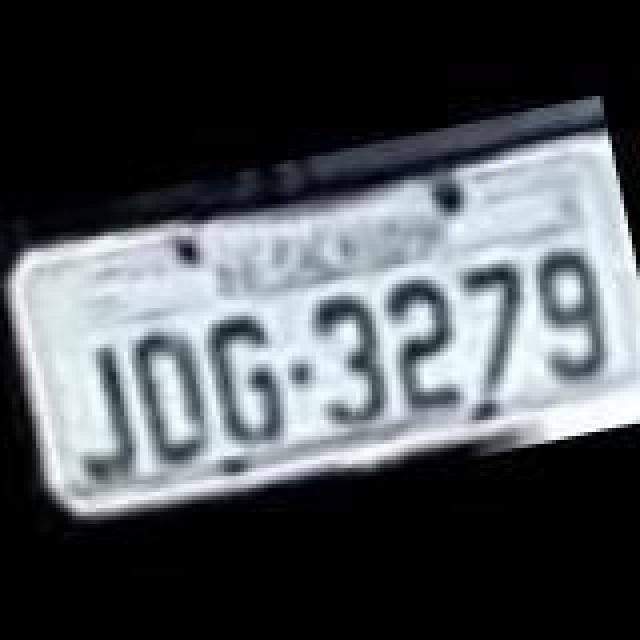2: (374, 268, 474, 420)
3: (298, 280, 398, 432)
7: (452, 254, 548, 402)
9: (522, 242, 614, 382)
G: (198, 306, 298, 454)
J: (58, 334, 150, 482)
O: (122, 320, 214, 464)
